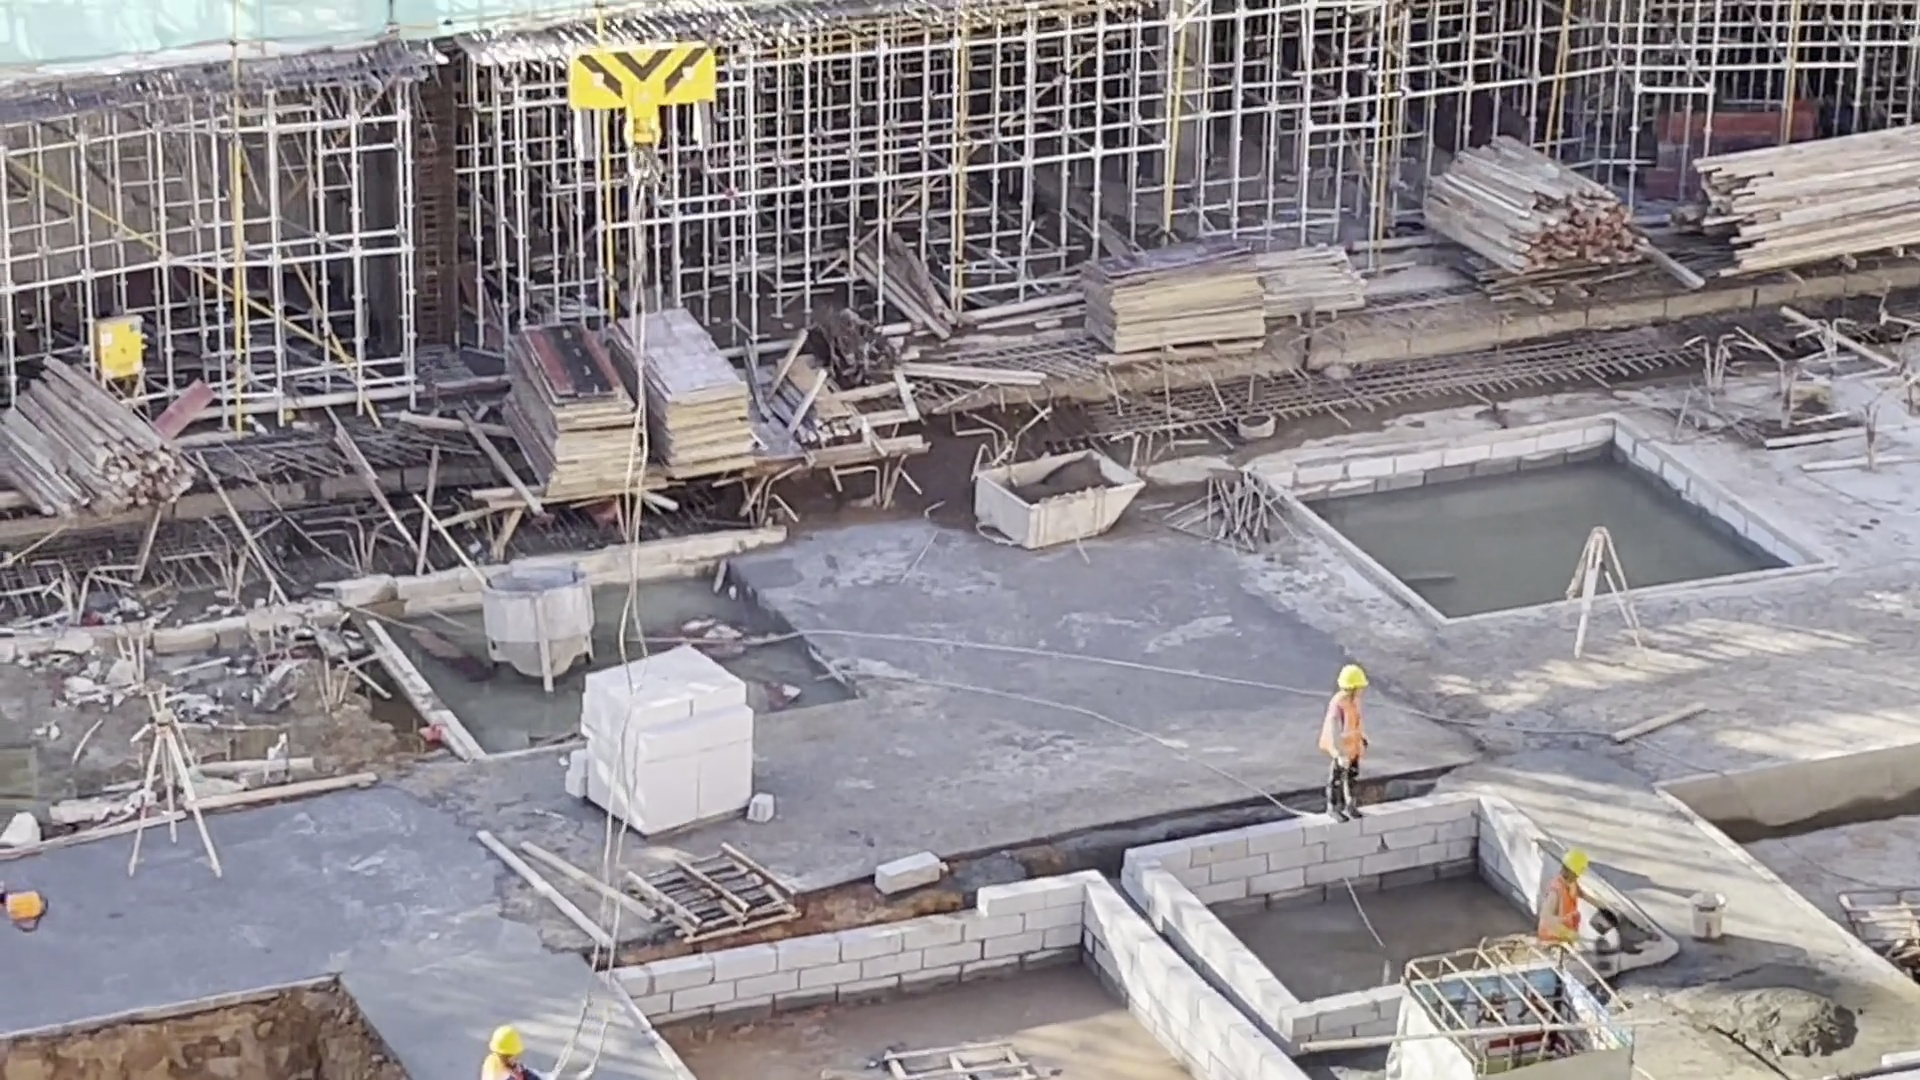board: (497, 317, 651, 502), (608, 301, 759, 478), (1075, 237, 1277, 356)
brick: (593, 645, 757, 837)
ebox: (91, 306, 150, 390)
helmet: (484, 1025, 528, 1057), (1331, 664, 1371, 694), (1561, 847, 1592, 878)
hook: (555, 41, 728, 183)
hopper: (967, 434, 1152, 558), (478, 564, 595, 694)
person: (1313, 661, 1374, 823), (1539, 839, 1600, 950), (469, 1017, 560, 1080)
vest: (1539, 874, 1579, 941), (1324, 697, 1367, 758)
wood: (1689, 119, 1920, 278), (6, 353, 204, 532), (1429, 132, 1648, 287)
